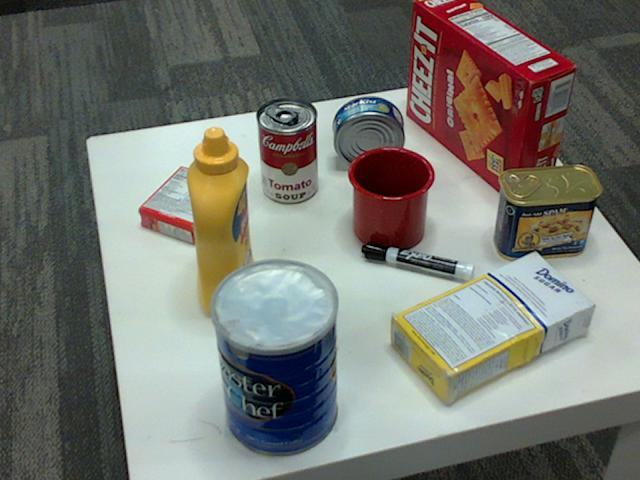cracker_box: (406, 0, 575, 200)
gelatin_box: (136, 163, 234, 241)
large_marker: (362, 242, 475, 285)
master_chef_can: (208, 261, 337, 459)
mug: (345, 145, 433, 250)
mustard_bottle: (184, 127, 254, 314)
potted_meat_can: (492, 166, 599, 261)
sugar_box: (387, 250, 592, 404)
tomato_soup_can: (255, 98, 317, 204)
tuna_fish_can: (331, 95, 403, 169)
